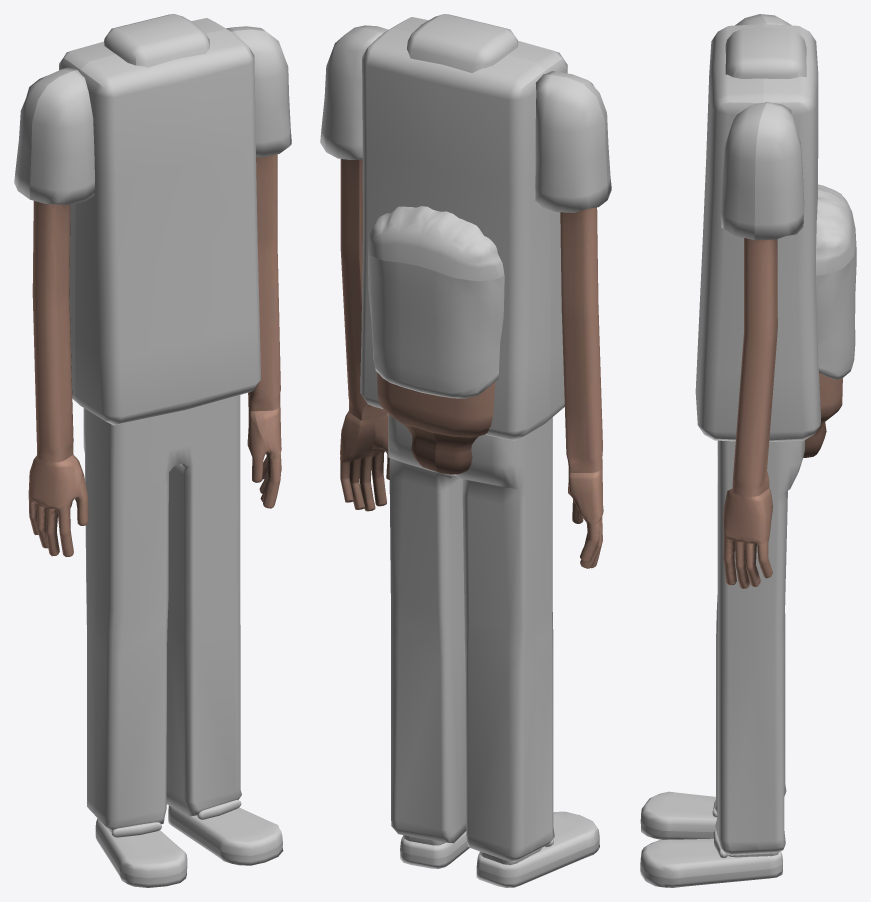
Rendered from schmidtec.obj.
3 renders of one model, left to right at view 1: azimuth 30°, elevation 25°; view 2: azimuth 150°, elevation 25°; view 3: azimuth 270°, elevation 25°, orthographic. The views are drawn at different scales.
Parts seen in each view (by area): view 1: Body_Body_Untitled.005, BodySkin_BodySkin_Untitled.012; view 2: Body_Body_Untitled.005, Hair_Hair_Untitled.009, BodySkin_BodySkin_Untitled.012, Head_Head_Untitled.001; view 3: Body_Body_Untitled.005, BodySkin_BodySkin_Untitled.012, Hair_Hair_Untitled.009, Head_Head_Untitled.001.
Part boxes in pixels (x1=…): Body_Body_Untitled.005: x1=14, y1=14, x2=291, y2=887; BodySkin_BodySkin_Untitled.012: x1=28, y1=154, x2=281, y2=557; Body_Body_Untitled.005: x1=320, y1=14, x2=611, y2=887; Hair_Hair_Untitled.009: x1=368, y1=206, x2=504, y2=398; BodySkin_BodySkin_Untitled.012: x1=340, y1=159, x2=603, y2=568; Head_Head_Untitled.001: x1=377, y1=372, x2=495, y2=474; Body_Body_Untitled.005: x1=640, y1=14, x2=820, y2=887; BodySkin_BodySkin_Untitled.012: x1=723, y1=238, x2=777, y2=588; Hair_Hair_Untitled.009: x1=816, y1=184, x2=856, y2=379; Head_Head_Untitled.001: x1=803, y1=373, x2=842, y2=457.
Size of the model in its own units: 0.4916 by 1.44 by 0.3483.
